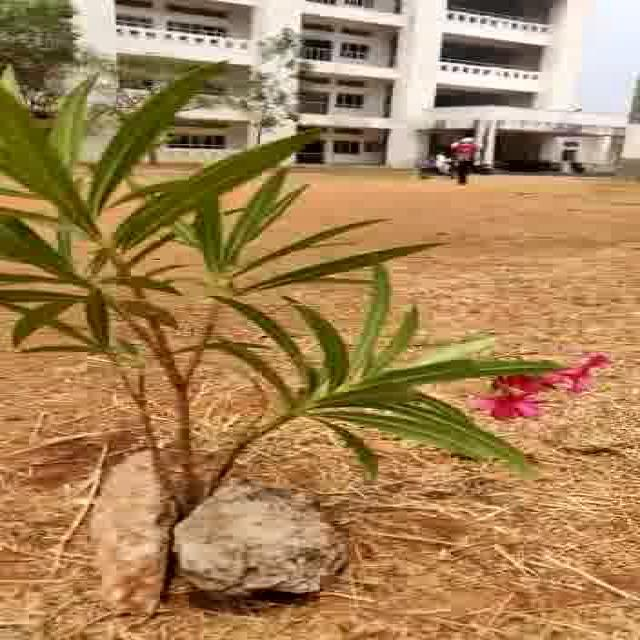OLEANDER: (4, 62, 591, 495)
